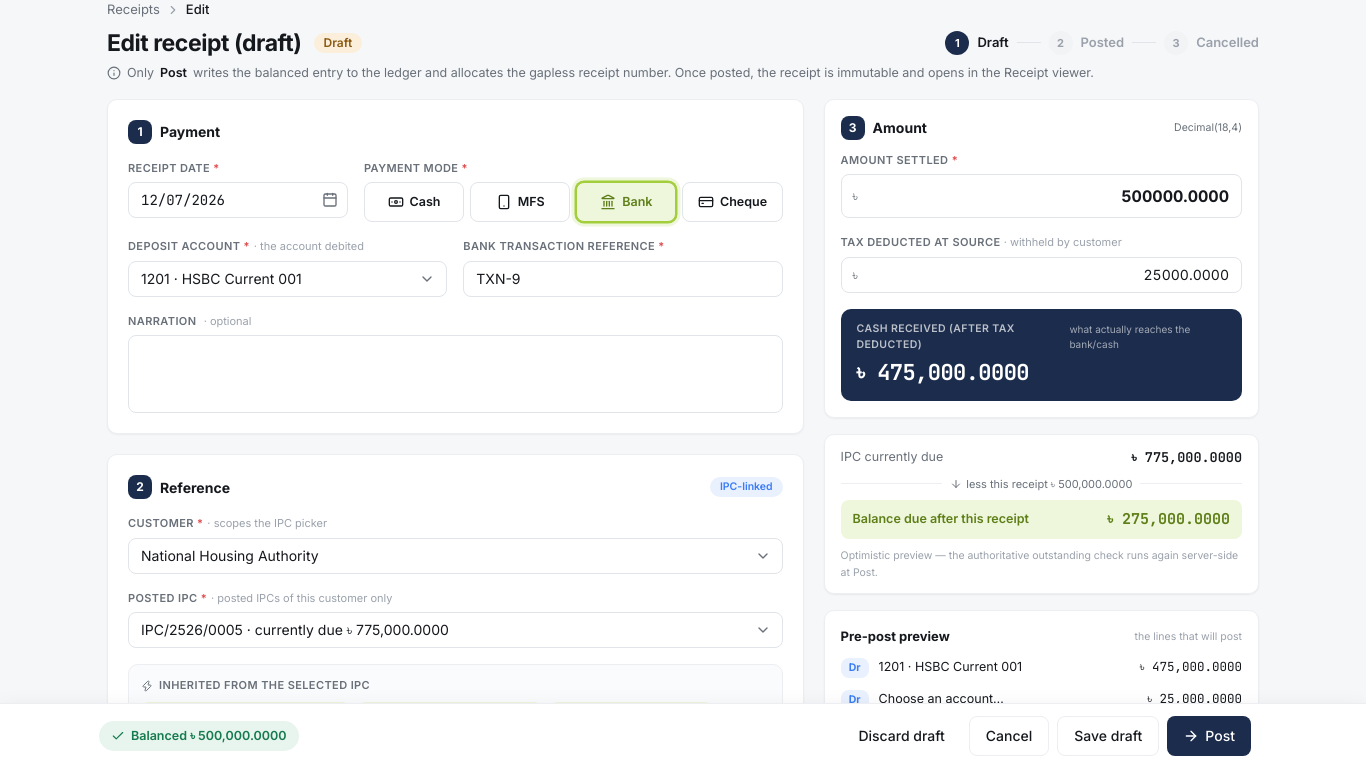
it: Receipt editor — §A IPC-linked (spec §5/§7; FR-REC-002/017/018) › maps IPC_NOT_POSTED to the exact spec message
Expected: the heading "Edit receipt (draft)" is shown, x1=107 y1=26 x2=302 y2=60
Expected: the element with test id "receipt-balance-due" is shown, x1=824 y1=434 x2=1259 y2=594
Click the button with test id "receipt-post".
click(1209, 736)  # box x1=1167 y1=716 x2=1251 y2=756
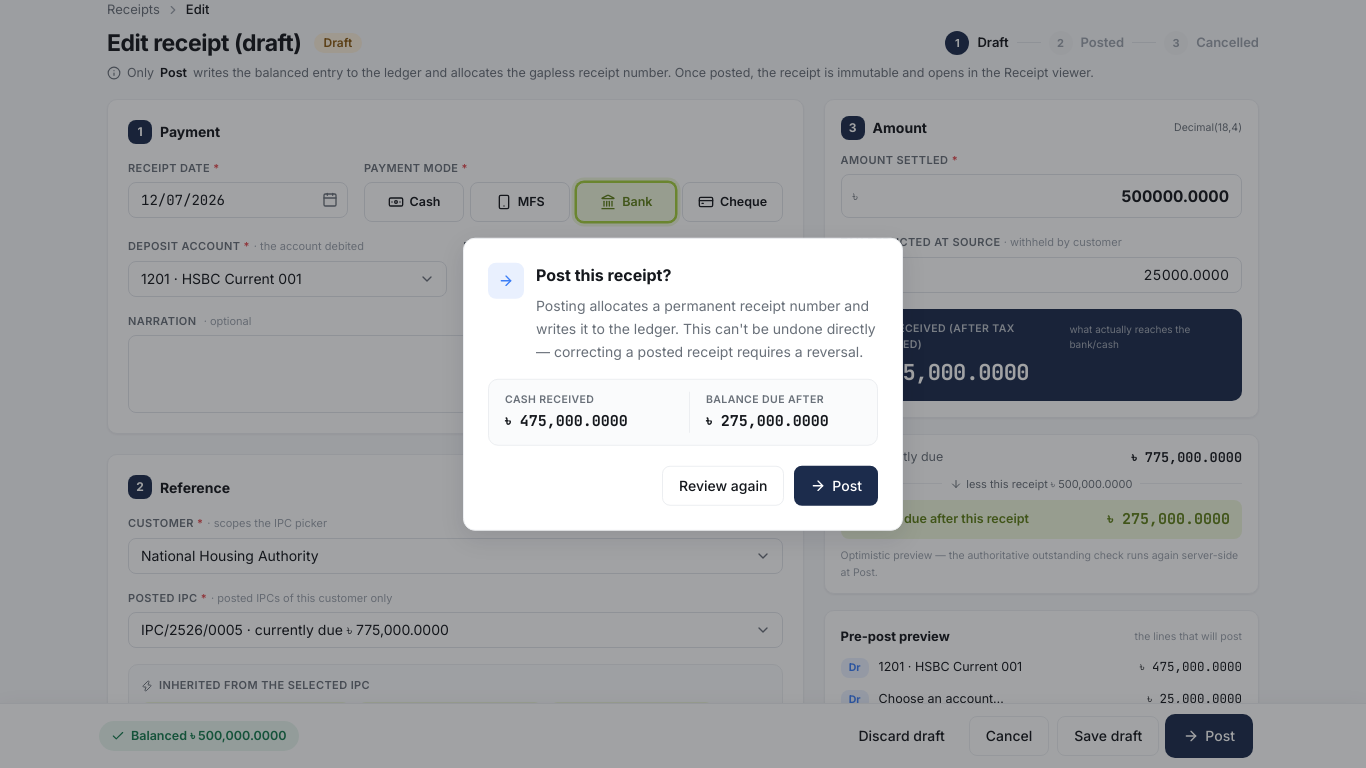
Click the button with test id "receipt-post-confirm".
click(836, 485)  # box x1=794 y1=465 x2=878 y2=505
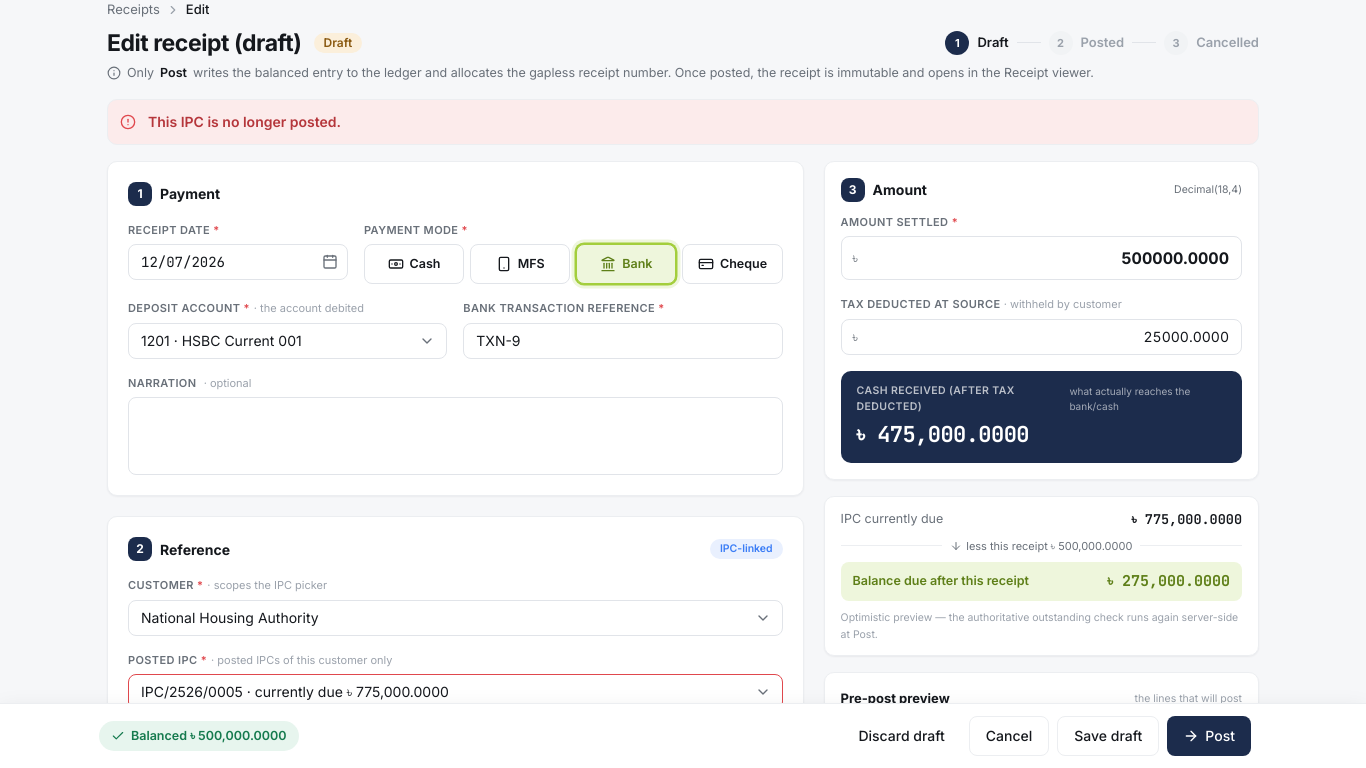
Expected: the message with test id "receipt-banner" reads "This IPC is no longer posted.", x1=148 y1=113 x2=341 y2=130
